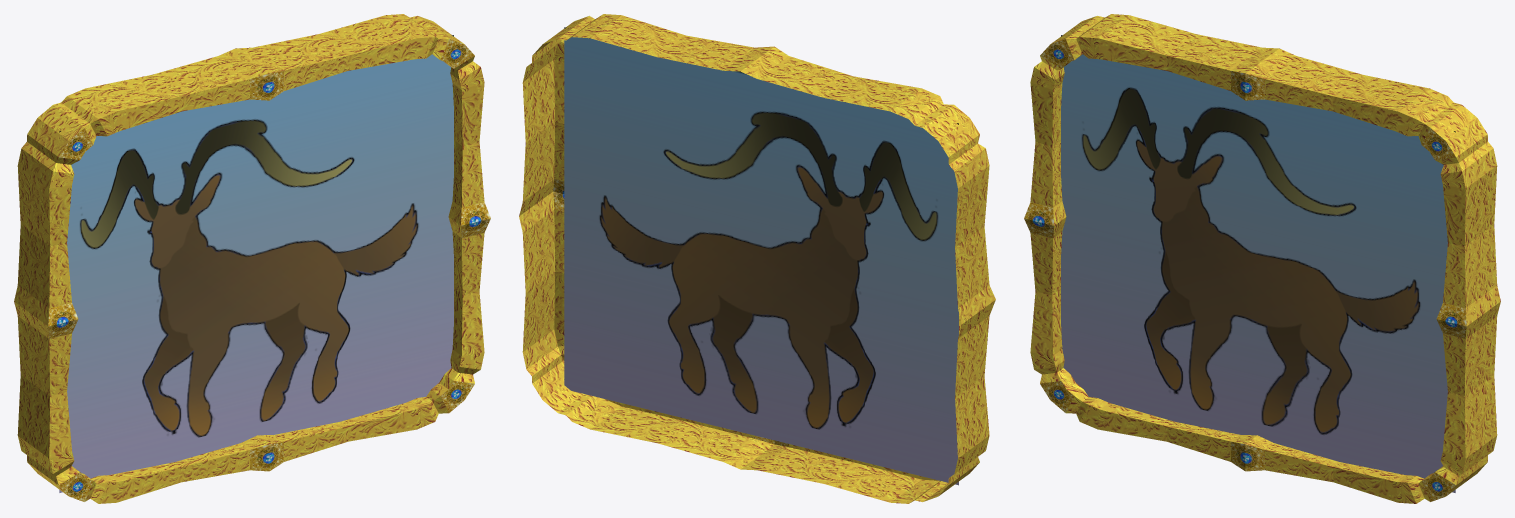
The model's file is Cuadro_Urur.fbx.
3 renders of one model, left to right at view 1: azimuth 30°, elevation 25°; view 2: azimuth 150°, elevation 25°; view 3: azimuth 330°, elevation 25°, orthographic.
Visible parts, largest first — view 1: Cube.018; view 2: Cube.018; view 3: Cube.018.
Boxes of the visible parts, x1=… form: Cube.018: x1=14, y1=14, x2=490, y2=503; Cube.018: x1=519, y1=14, x2=995, y2=503; Cube.018: x1=1024, y1=14, x2=1500, y2=503.
Size of the model in its own units: 89.22 by 76.64 by 11.95.
